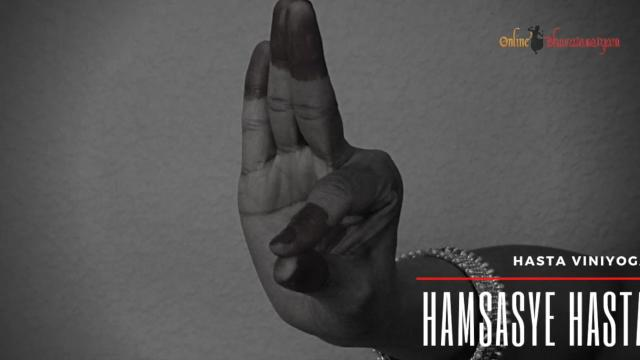hansaasya: (230, 0, 419, 344)
